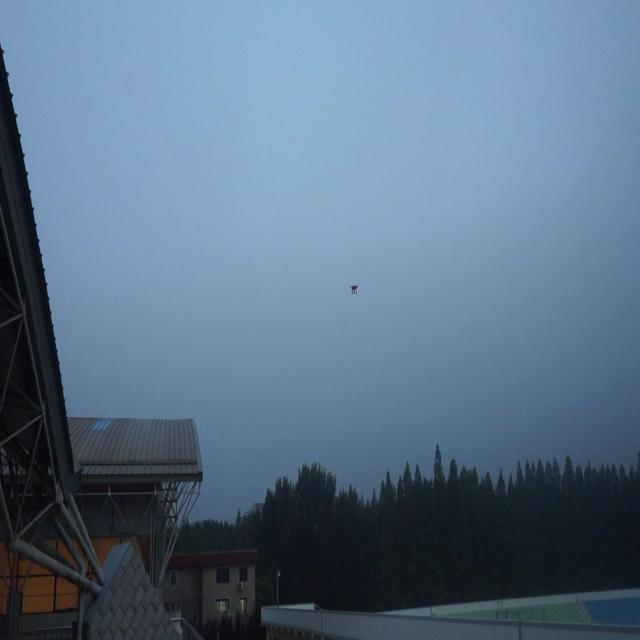UAV: (349, 285, 359, 295)
